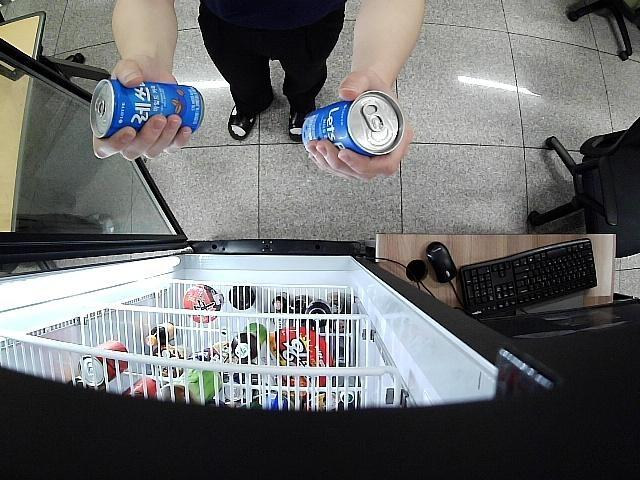15_letsbe: (90, 77, 205, 140), (302, 90, 405, 155)
